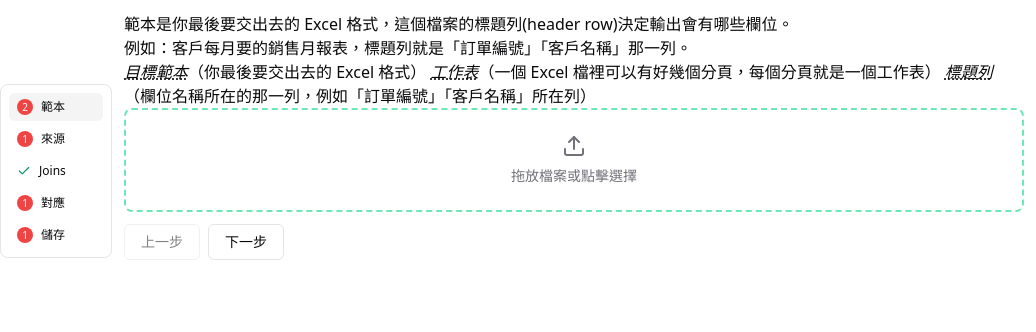
Test: WizardPage › skipsToMappingsShowsEmptyStateNotBlocked
Click the button "1 對應": coordinates (56, 203) [9, 189, 103, 217]
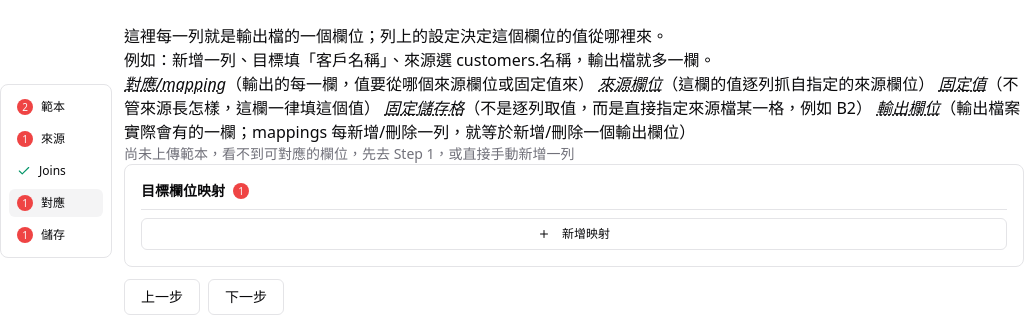
Expected: the button "2 範本" is enabled, [9, 93, 103, 121]
Result: the text "尚未上傳範本，看不到可對應的欄位，先去 Step 1，或直接手動新增一列" is shown at [124, 144, 574, 163]
Result: the button "新增映射" is enabled at [141, 218, 1007, 250]
